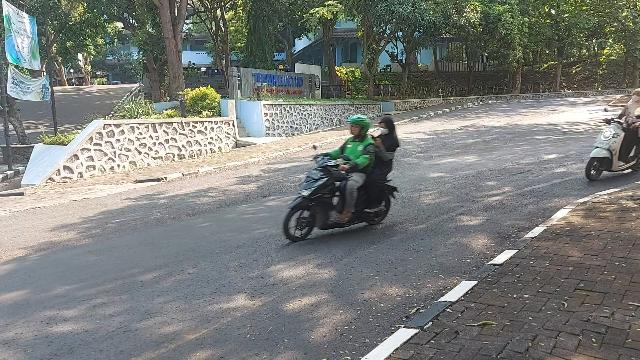helm: (348, 116, 371, 136)
motor: (284, 146, 399, 243)
non-helm: (381, 119, 395, 136)
